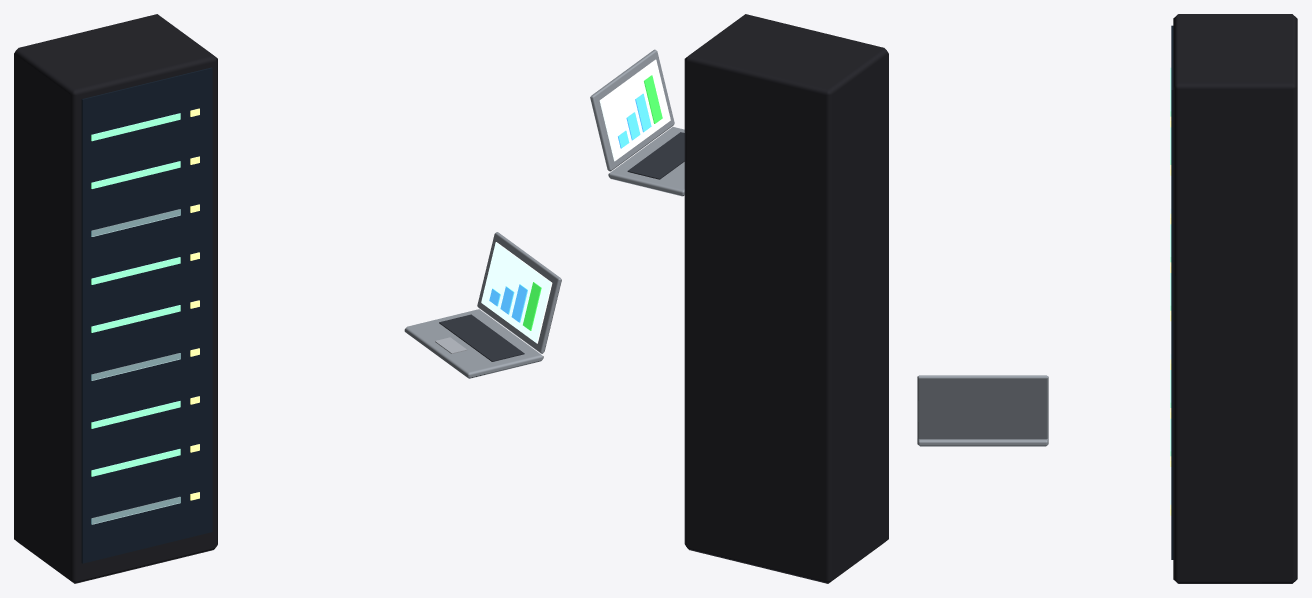
Rendered from station_buffer_ausstattung_1_3.glb.
3 views of the same model, side by side, from view 1: azimuth 30°, elevation 25°; view 2: azimuth 150°, elevation 25°; view 3: azimuth 270°, elevation 25° (orthographic).
Visible parts, largest first — view 1: station_buffer_ausstattung_1_3; view 2: station_buffer_ausstattung_1_3; view 3: station_buffer_ausstattung_1_3.
Boxes of the visible parts, bbox=[...] form: station_buffer_ausstattung_1_3: bbox=[14, 14, 561, 583]; station_buffer_ausstattung_1_3: bbox=[590, 14, 888, 583]; station_buffer_ausstattung_1_3: bbox=[917, 14, 1297, 583].
Size of the model in its own units: 1.23 by 1.6 by 1.1.
